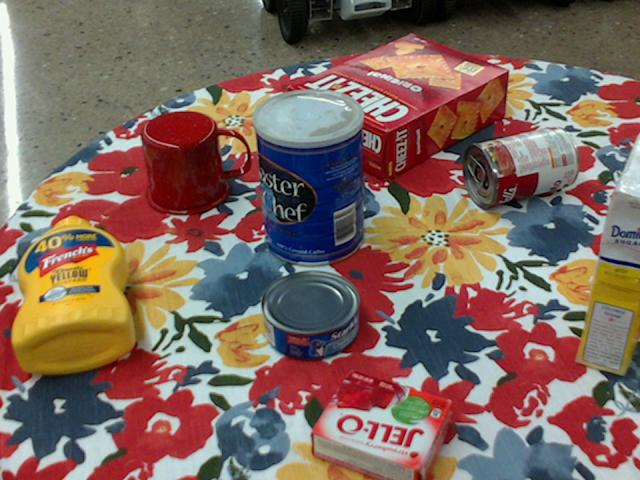cracker_box: (290, 35, 510, 181)
gelatin_box: (313, 372, 458, 479)
master_chef_can: (252, 88, 364, 266)
mug: (141, 110, 249, 215)
mustard_bottle: (13, 216, 135, 373)
sugar_box: (578, 133, 639, 376)
tomato_soup_can: (463, 125, 579, 207)
tuna_fish_can: (261, 271, 360, 361)
